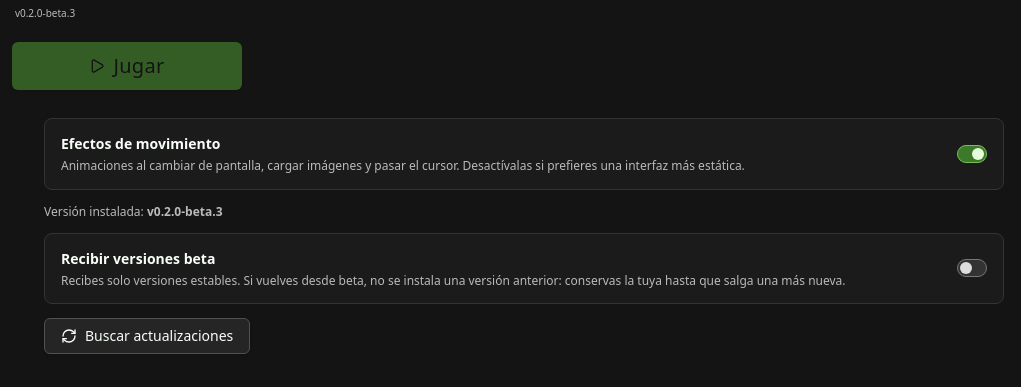
Scenario: a failed command shows a Spanish message instead of the backend code
Step 1. Click the button "Buscar actualizaciones" → (147, 336), box [44, 318, 250, 354]
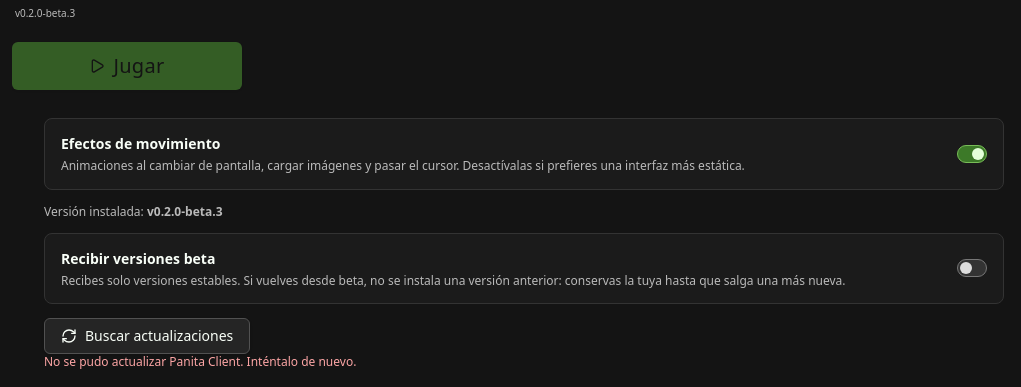
Now the message shows "No se pudo actualizar Panita Client", box [44, 353, 356, 370]
